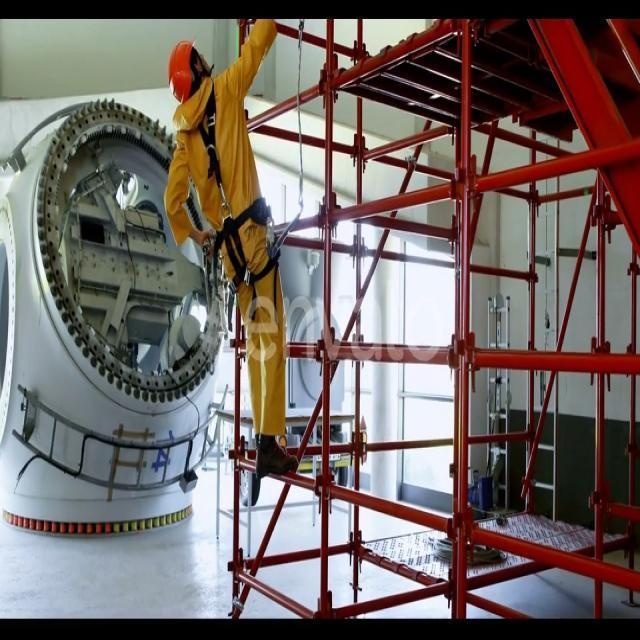Arnes_seguridad: (188, 80, 287, 313)
